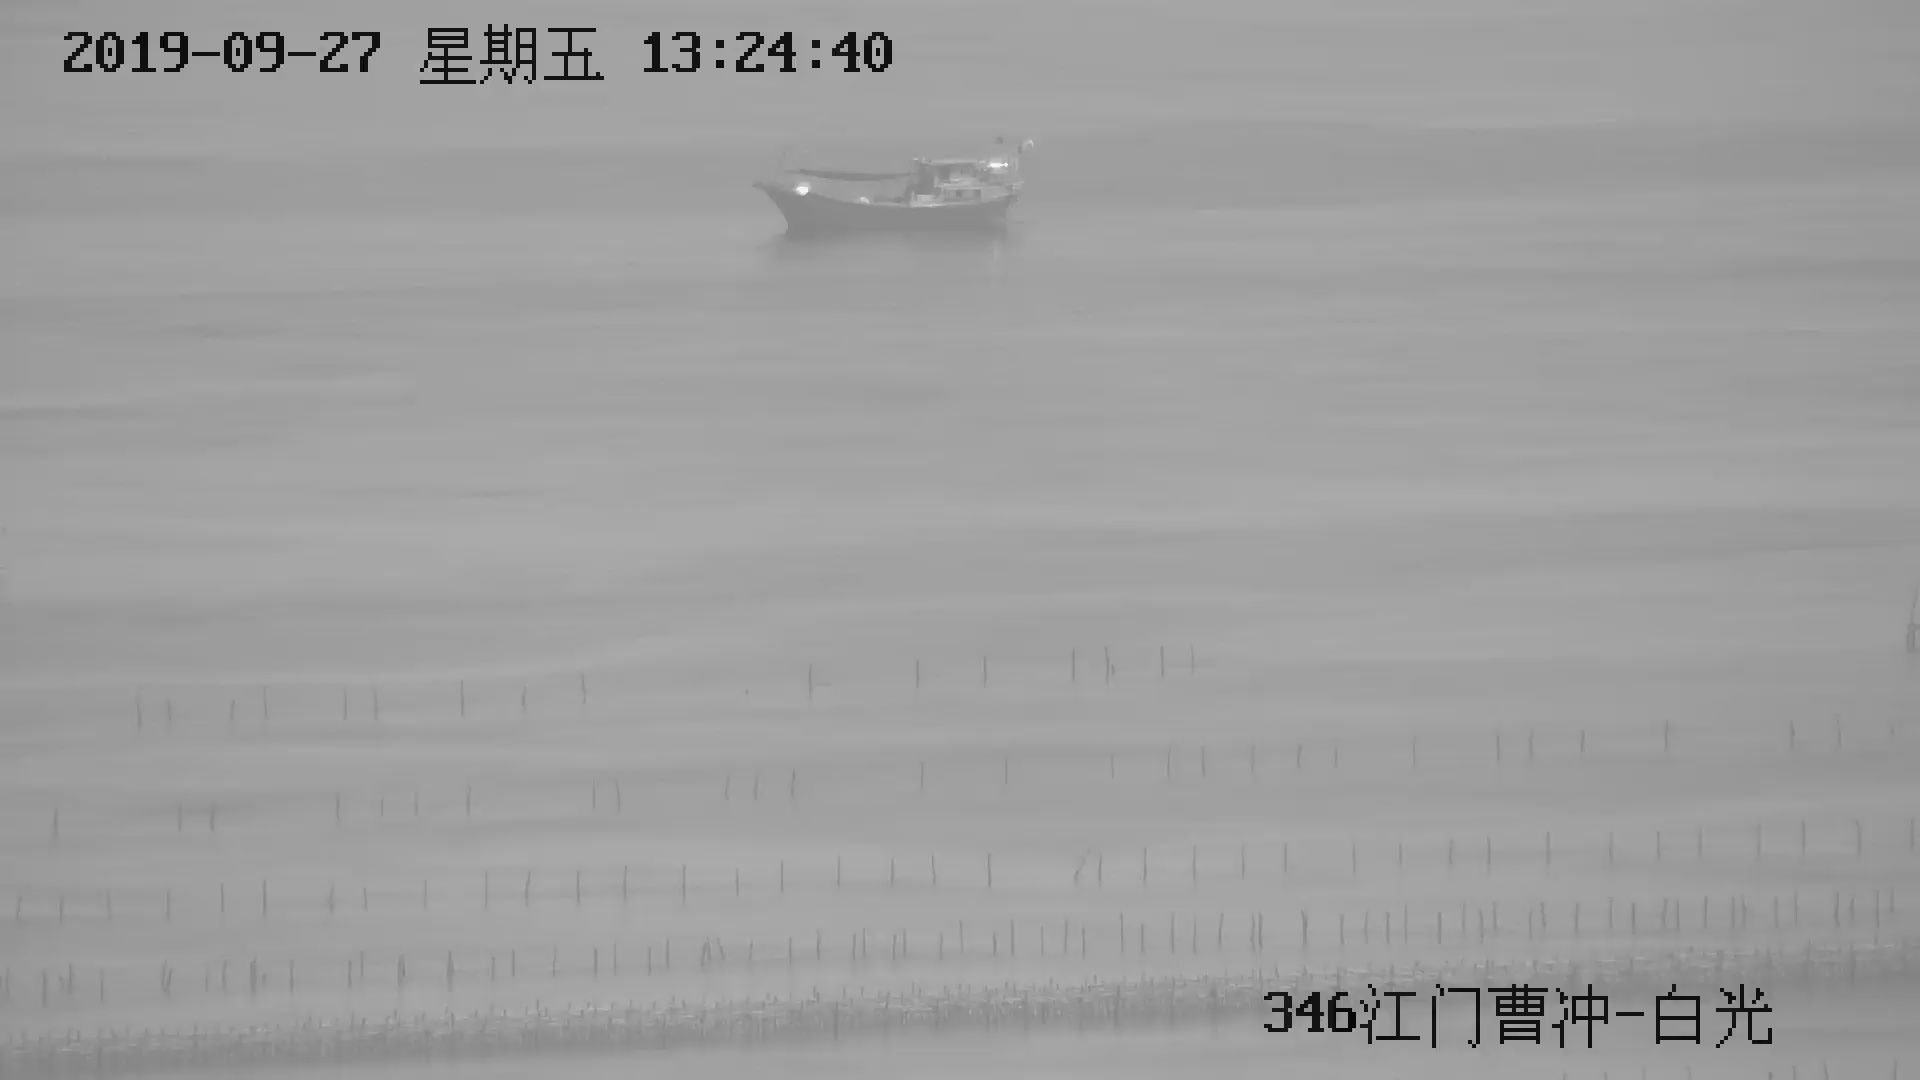ship: (760, 156, 1025, 233)
